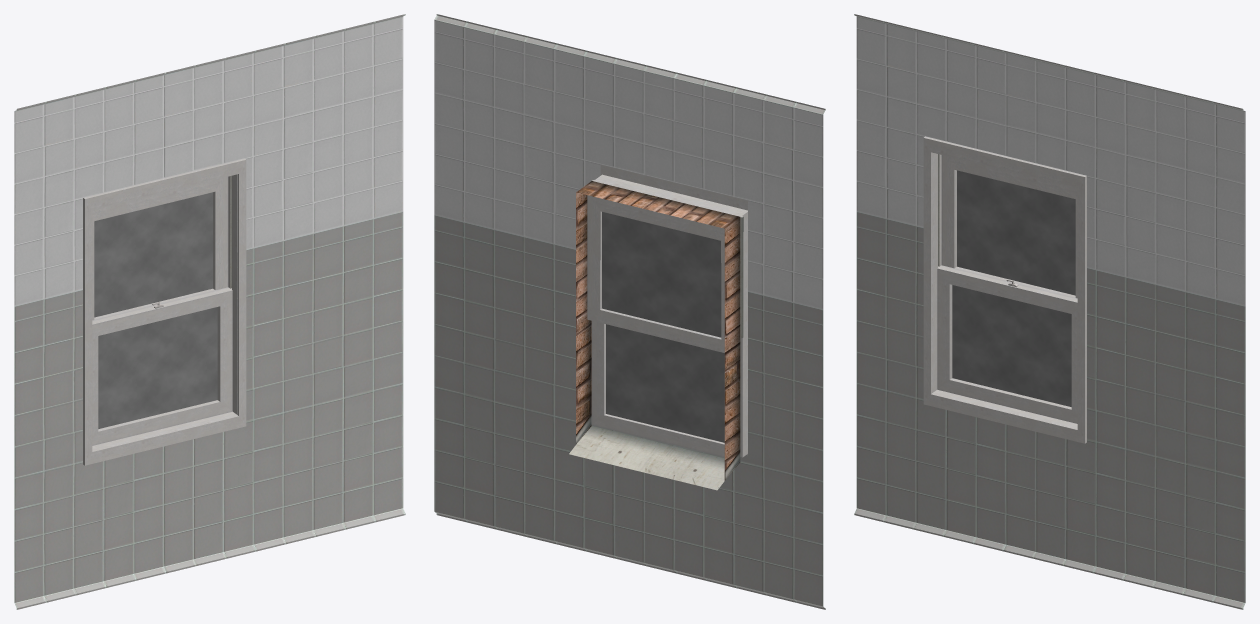
The model's file is bathroom_flat_window.dae.
The picture shows the model from 3 angles, left to right: view 1: azimuth 30°, elevation 25°; view 2: azimuth 150°, elevation 25°; view 3: azimuth 330°, elevation 25°; orthographic projection.
Visible parts, largest first — view 1: polySurface159, polySurface151; view 2: polySurface159, polySurface151; view 3: polySurface159, polySurface151.
Boxes of the visible parts, <box> form: polySurface159: <box>14,14,405,609</box>; polySurface151: <box>94,192,217,428</box>; polySurface159: <box>434,14,825,609</box>; polySurface151: <box>600,211,724,442</box>; polySurface159: <box>854,14,1245,609</box>; polySurface151: <box>952,170,1075,406</box>.
Size of the model in its own units: 3.25 by 4 by 0.4929.
